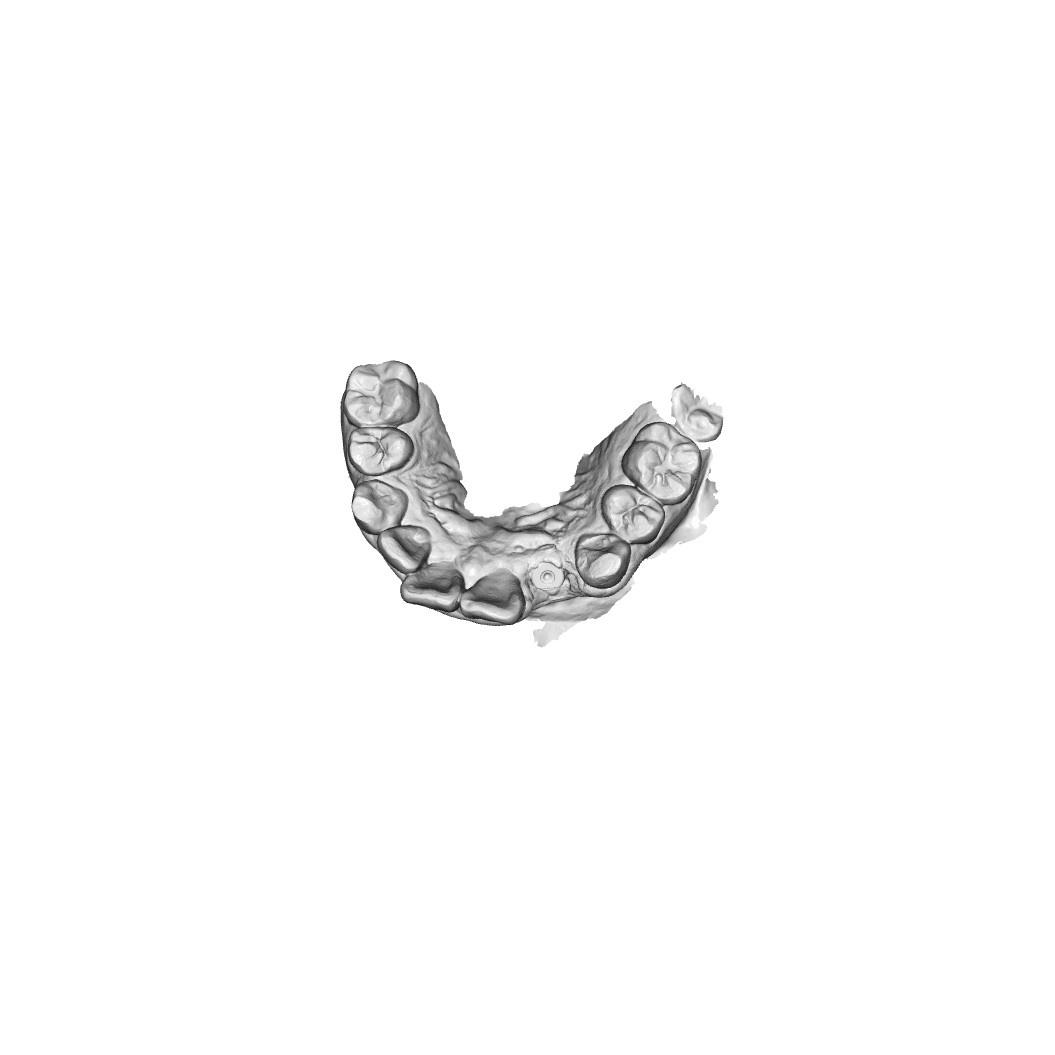canine: (349, 478, 409, 538), (574, 530, 629, 590)
implant: (534, 557, 570, 597)
incisor: (455, 569, 527, 628), (374, 524, 434, 576), (399, 566, 463, 614)
molar: (620, 421, 705, 505), (338, 357, 424, 429)
premolar: (595, 483, 666, 547), (345, 424, 414, 477)
